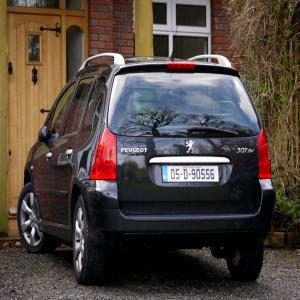Vehicle-registration-plate: (162, 166, 219, 183)
